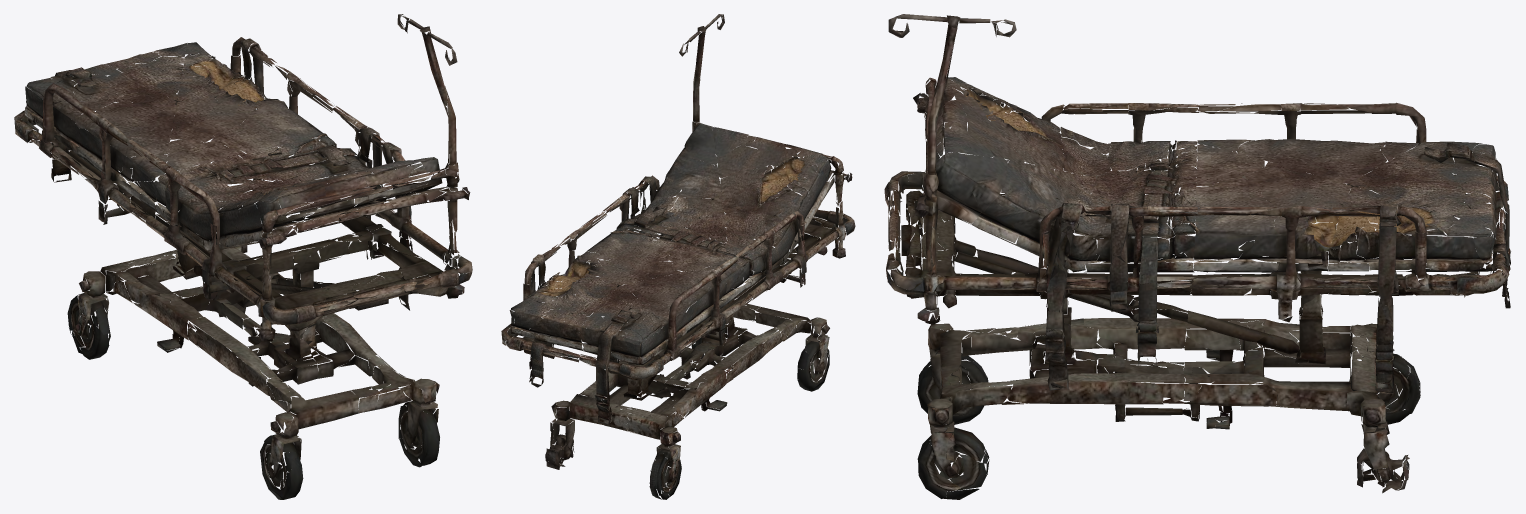
File: p_gurney.glb
3 views of the same model, side by side, from view 1: azimuth 30°, elevation 25°; view 2: azimuth 150°, elevation 25°; view 3: azimuth 270°, elevation 25° (orthographic). The views are drawn at different scales.
Parts seen in each view (by area): view 1: tripo_node_8ac4ae58-a675-45a7-a44a-c08b78a08490; view 2: tripo_node_8ac4ae58-a675-45a7-a44a-c08b78a08490; view 3: tripo_node_8ac4ae58-a675-45a7-a44a-c08b78a08490.
Boxes of the visible parts, x1=… form: tripo_node_8ac4ae58-a675-45a7-a44a-c08b78a08490: x1=14, y1=14, x2=472, y2=499; tripo_node_8ac4ae58-a675-45a7-a44a-c08b78a08490: x1=501, y1=14, x2=855, y2=499; tripo_node_8ac4ae58-a675-45a7-a44a-c08b78a08490: x1=884, y1=14, x2=1510, y2=499.
Size of the model in its own units: 0.4257 by 0.8435 by 0.9814.
Materials: 1 (1 with a texture image).
